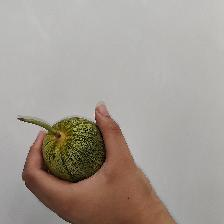gua: (40, 125, 98, 175)
